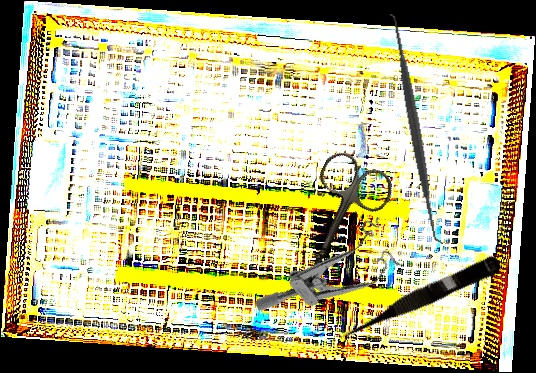Iris Scissors: (270, 146, 400, 304)
Micro Scissor: (334, 250, 504, 346)
Spatula Surgical: (382, 11, 449, 247)
Speculum: (252, 204, 412, 354)
